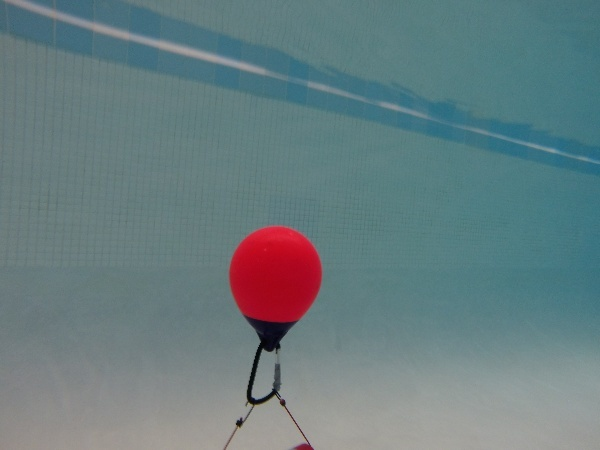buoy_red: (224, 223, 325, 351)
